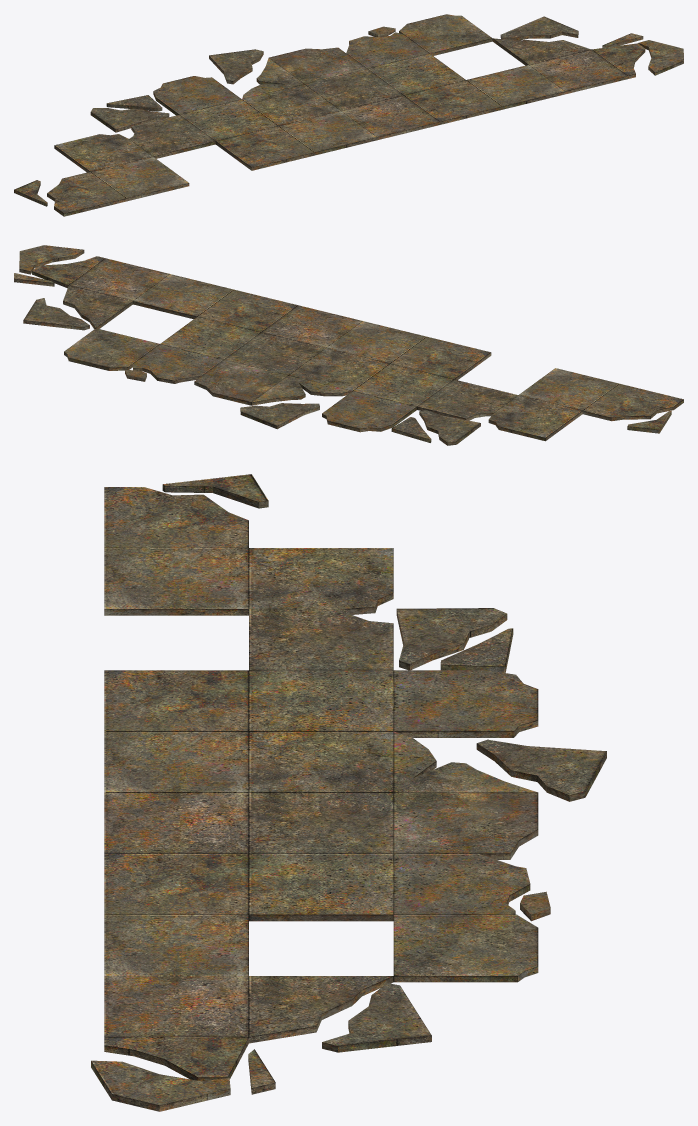
Rendered from Tiles.fbx.
3 views of the same model, one above another, from view 1: azimuth 30°, elevation 25°; view 2: azimuth 150°, elevation 25°; view 3: azimuth 270°, elevation 25° (orthographic). The views are drawn at different scales.
Visible parts, largest first — view 1: Tiles; view 2: Tiles; view 3: Tiles.
Part boxes in pixels (left/top/right/bottom): Tiles: left=14, top=14, right=683, bottom=216; Tiles: left=14, top=245, right=683, bottom=445; Tiles: left=91, top=474, right=606, bottom=1111.
Bounding box in the file's own units: 1033 × 5 × 357.
